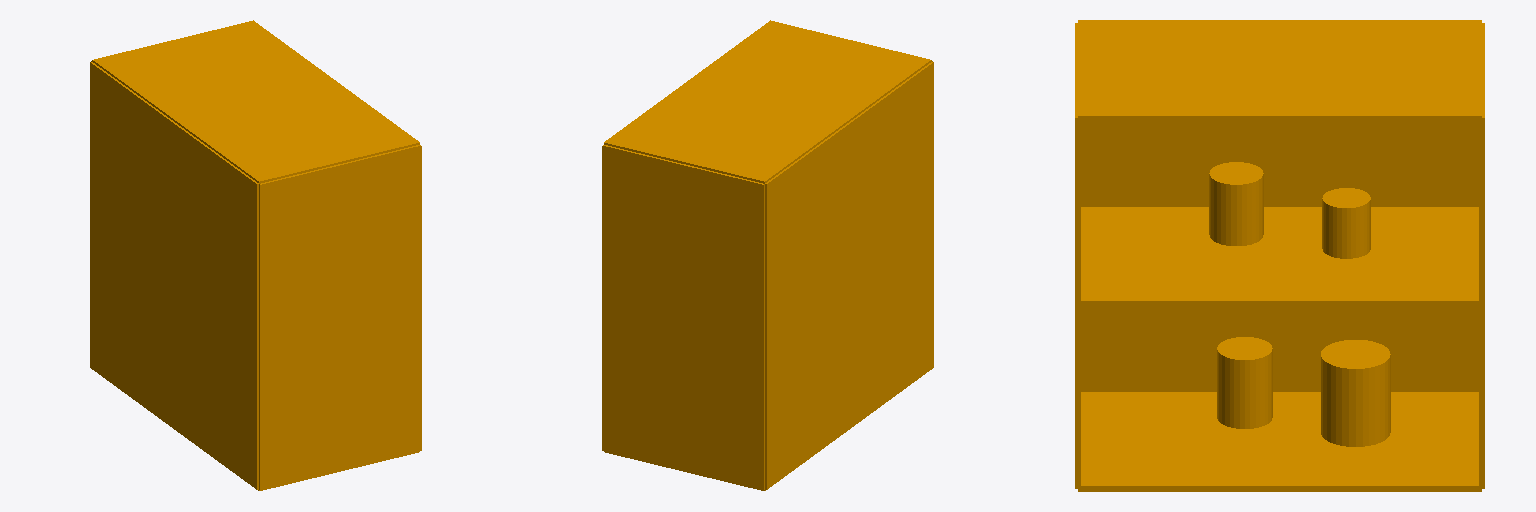
URDF robot description (syn_can_cabinet_674):
<?xml version="1.0" ?>
<robot name="syn_can_cabinet_674">
    <link concave="yes" name="base_link">
        <inertial>
            <origin rpy="0 0 0" xyz="0 0 0"/>
            <mass value="0.0"/>
            <inertia ixx="1e-08" ixy="0" ixz="0" iyy="1e-08" iyz="0" izz="1e-08"/>
        </inertial>
        <visual>
            <origin xyz="0 0 0" rpy="0 0 0" />
            <geometry>
                <mesh filename="syn_can_cabinet_674.obj" scale="1.000000 1.000000 1.000000"/>
            </geometry>         
        </visual>

        <collision concave="yes">
            <origin xyz="0 0 0" rpy="0 0 0"/>
            <geometry>
                <mesh filename="syn_can_cabinet_674.obj" scale="1.000000 1.000000 1.000000"/>
            </geometry>
        </collision>
    </link>
</robot>
    

--- Render facts (derived) ---
3 views of the same robot in one strip: view 1: azimuth 30°, elevation 25°; view 2: azimuth 150°, elevation 25°; view 3: azimuth 270°, elevation 25° (orthographic).
Robot: syn_can_cabinet_674 — 1 links, 0 joints (none); root link base_link; default pose: every joint at zero.
Visible links, largest first — view 1: base_link; view 2: base_link; view 3: base_link.
Boxes of the visible links, box(x1,y1,x2,y2) form: base_link: box(90, 20, 421, 490); base_link: box(602, 20, 933, 490); base_link: box(1075, 20, 1484, 491).
Bounding box of the posed robot: 0.2094 × 0.3767 × 0.3802 m (x, y, z).
Meshes: 1 distinct files referenced, 1 mesh visuals loaded (1 OBJ).
